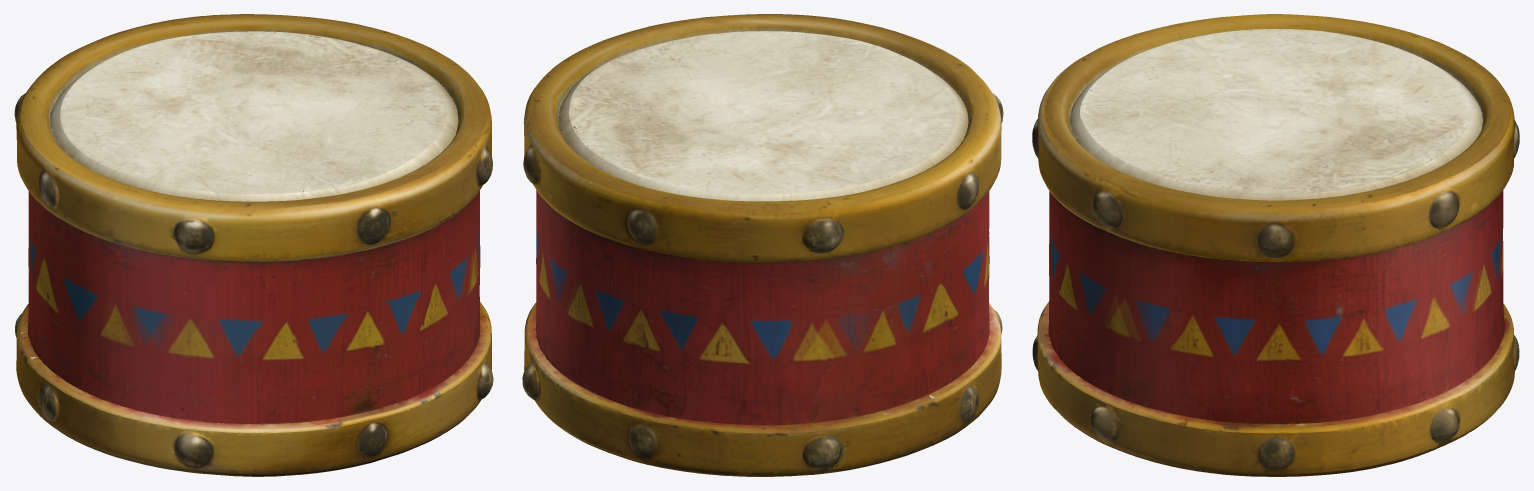
File: toy-drum.glb
The picture shows the model from 3 angles, left to right: view 1: azimuth 30°, elevation 25°; view 2: azimuth 150°, elevation 25°; view 3: azimuth 270°, elevation 25°; orthographic projection.
Visible parts, largest first — view 1: geometry_0; view 2: geometry_0; view 3: geometry_0.
Part boxes in pixels (x1,y1,x2,y2): geometry_0: (14,14,493,476); geometry_0: (522,14,1003,476); geometry_0: (1032,14,1519,476).
Size of the model in its own units: 0.15 by 0.0924 by 0.15.
Materials: 1 (1 with a texture image).
